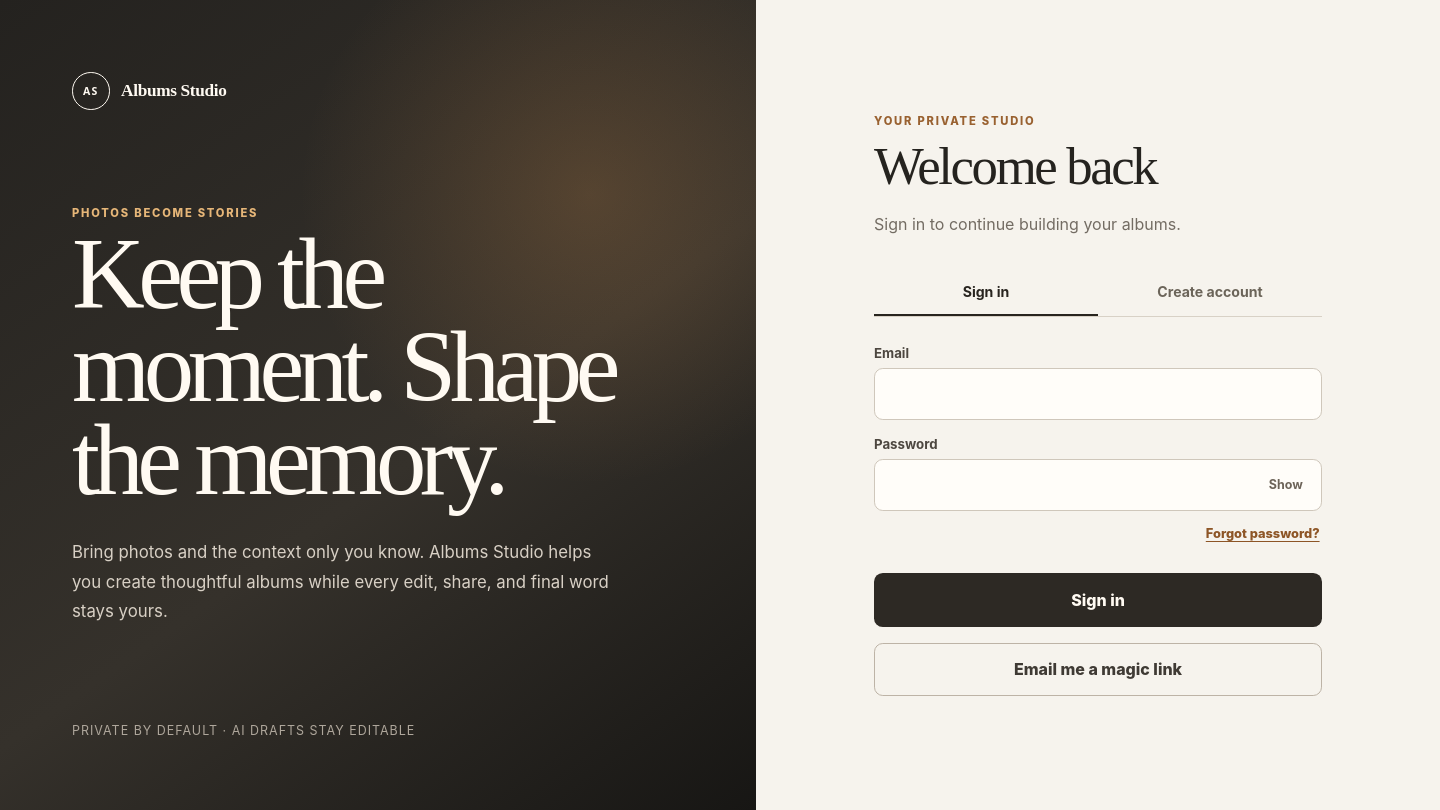
Scenario: App › explains a rate-limited reset request
The image size is (1440, 810).
expect the heading "Welcome back" is shown: met, box x1=874 y1=137 x2=1156 y2=195
Type "person@example.com" into the field labelled "Email" at (1098, 394), box x1=874 y1=368 x2=1322 y2=420
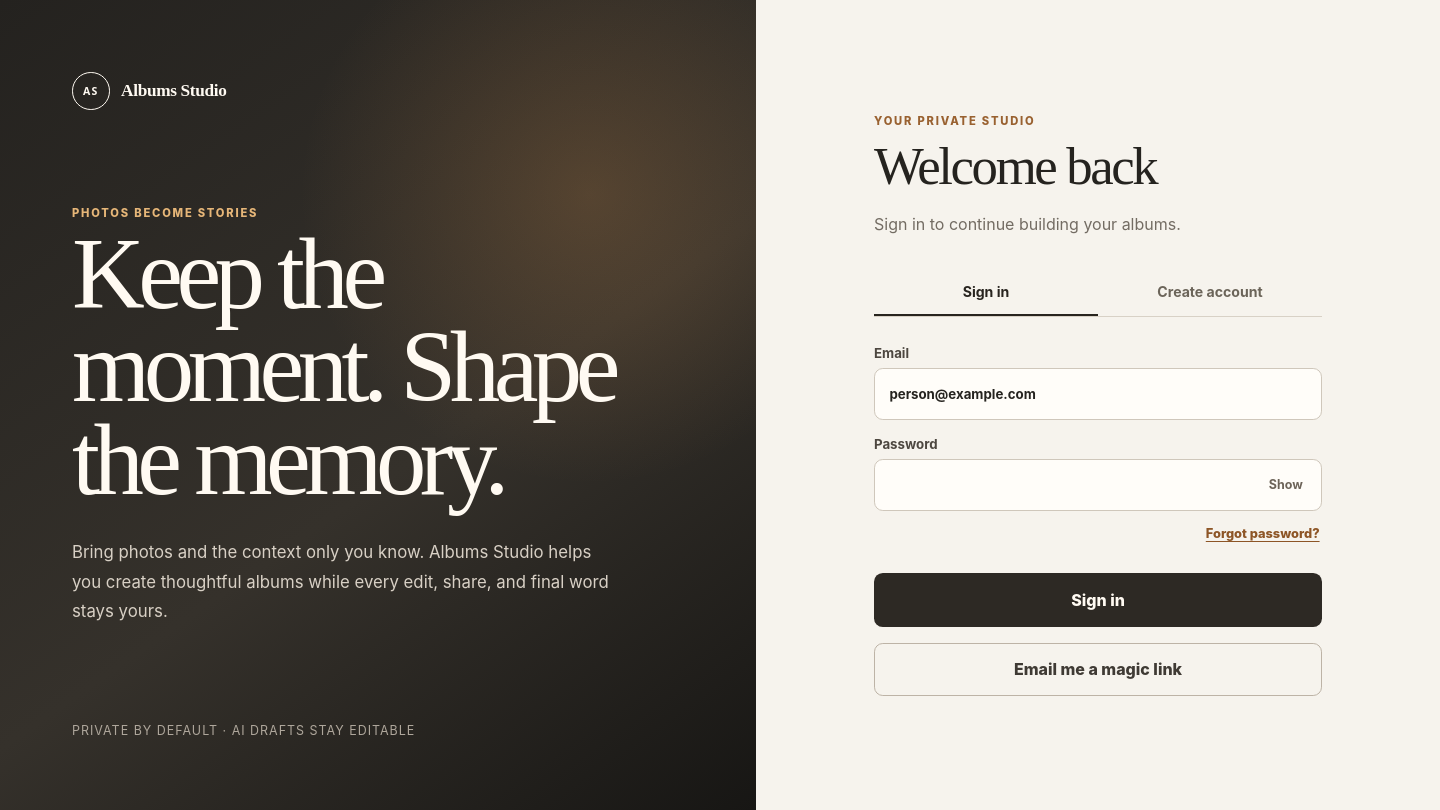
Click the button "Forgot password?" at (1263, 534), box x1=1203 y1=518 x2=1322 y2=549
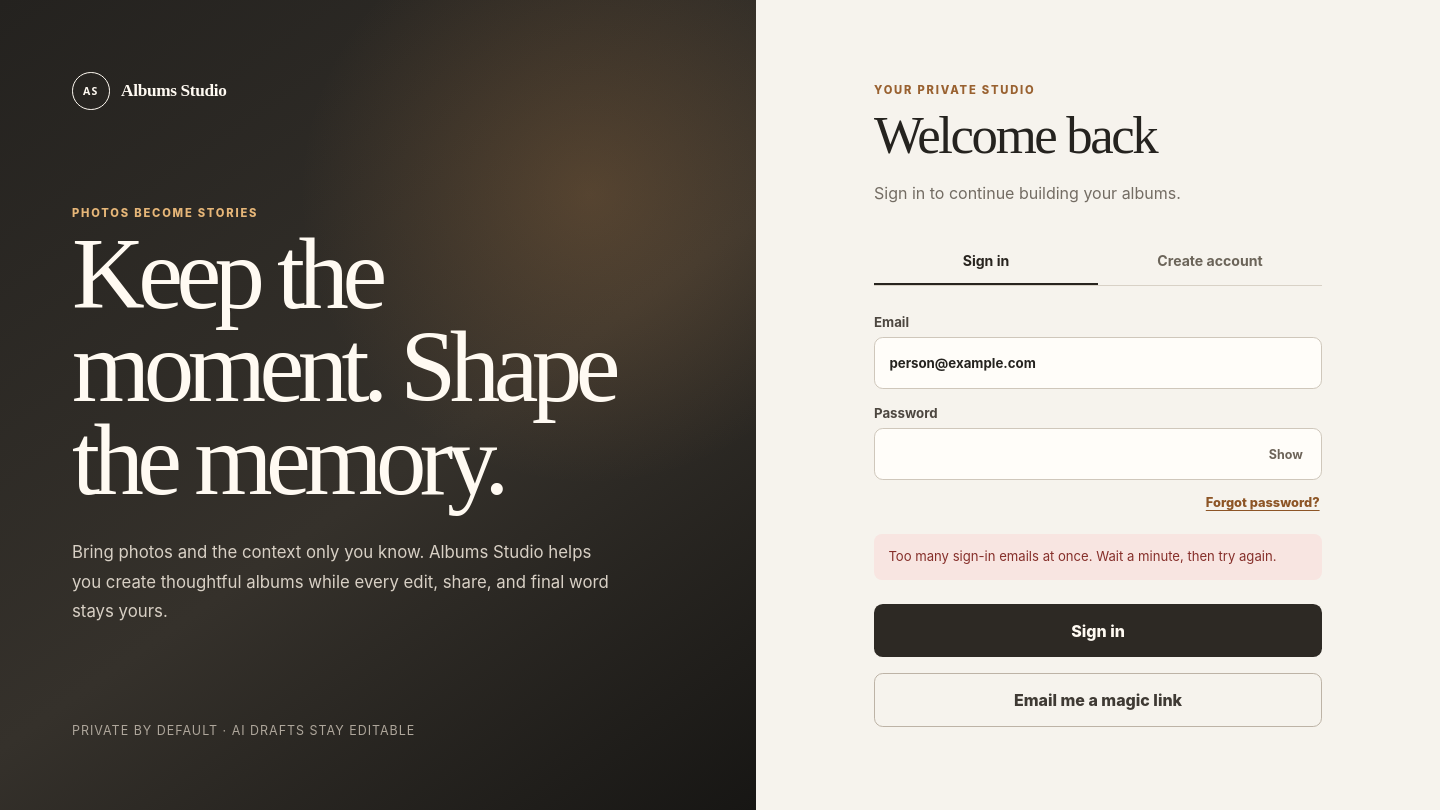
expect the message reads "Too many sign-in emails at once. Wait a minute, then try again.": met, box x1=888 y1=548 x2=1276 y2=564
